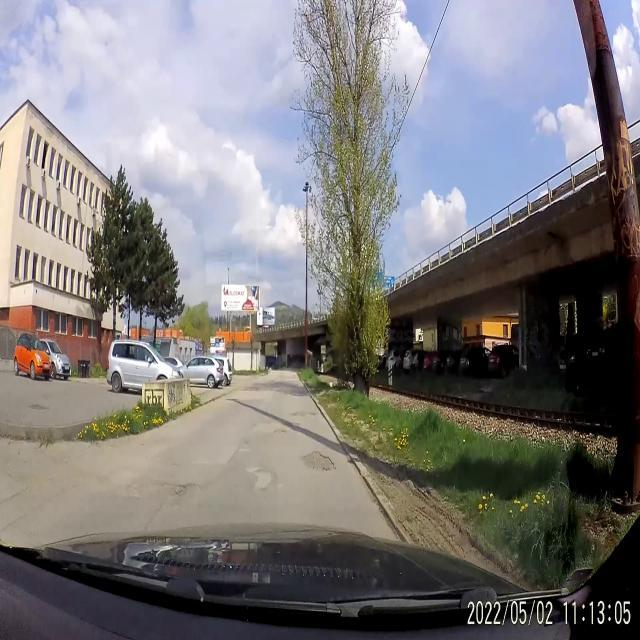Pothole: (157, 470, 201, 515), (243, 455, 280, 503), (300, 436, 338, 478), (269, 420, 299, 444), (289, 406, 316, 420), (26, 401, 52, 414)
